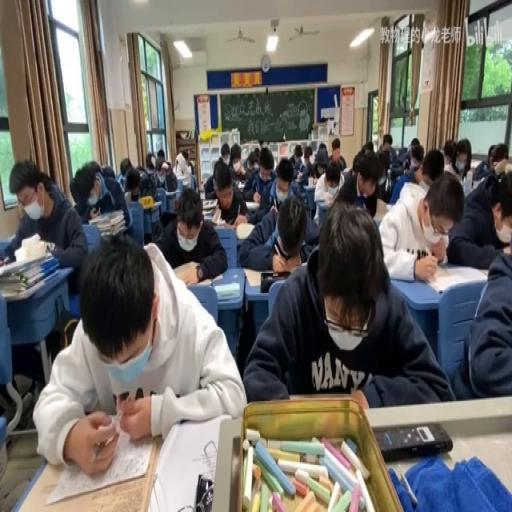calculator: (151, 412, 231, 512), (422, 262, 485, 293), (189, 270, 225, 286), (214, 282, 240, 300), (315, 199, 331, 228), (235, 222, 256, 240), (302, 184, 316, 206), (213, 219, 236, 232), (139, 196, 160, 209), (471, 175, 487, 189), (212, 205, 222, 222), (245, 199, 260, 209), (201, 196, 216, 206), (476, 266, 491, 276), (306, 176, 316, 188), (235, 179, 245, 189), (198, 189, 205, 199)
paper: (35, 232, 244, 471), (241, 200, 449, 410), (450, 185, 511, 398), (3, 158, 87, 283), (157, 184, 228, 280), (73, 160, 131, 240), (244, 145, 278, 209), (471, 142, 507, 184), (386, 142, 414, 196), (491, 178, 512, 250), (419, 146, 445, 190), (153, 154, 177, 192), (123, 164, 144, 202), (333, 172, 358, 203), (454, 138, 472, 179), (228, 142, 246, 181), (326, 138, 346, 173), (173, 151, 193, 186), (308, 145, 326, 181), (290, 142, 306, 178), (362, 188, 380, 218), (376, 148, 390, 181), (350, 148, 368, 173), (441, 138, 456, 164), (219, 142, 230, 164), (118, 158, 132, 173), (101, 164, 115, 179), (146, 152, 155, 172), (116, 170, 126, 188), (382, 135, 392, 151), (363, 140, 373, 154), (409, 138, 418, 149), (155, 149, 165, 158), (182, 151, 189, 162), (318, 142, 326, 151), (304, 151, 310, 162), (186, 164, 192, 174)
person: (373, 422, 451, 462), (194, 471, 214, 509), (260, 270, 290, 293)
